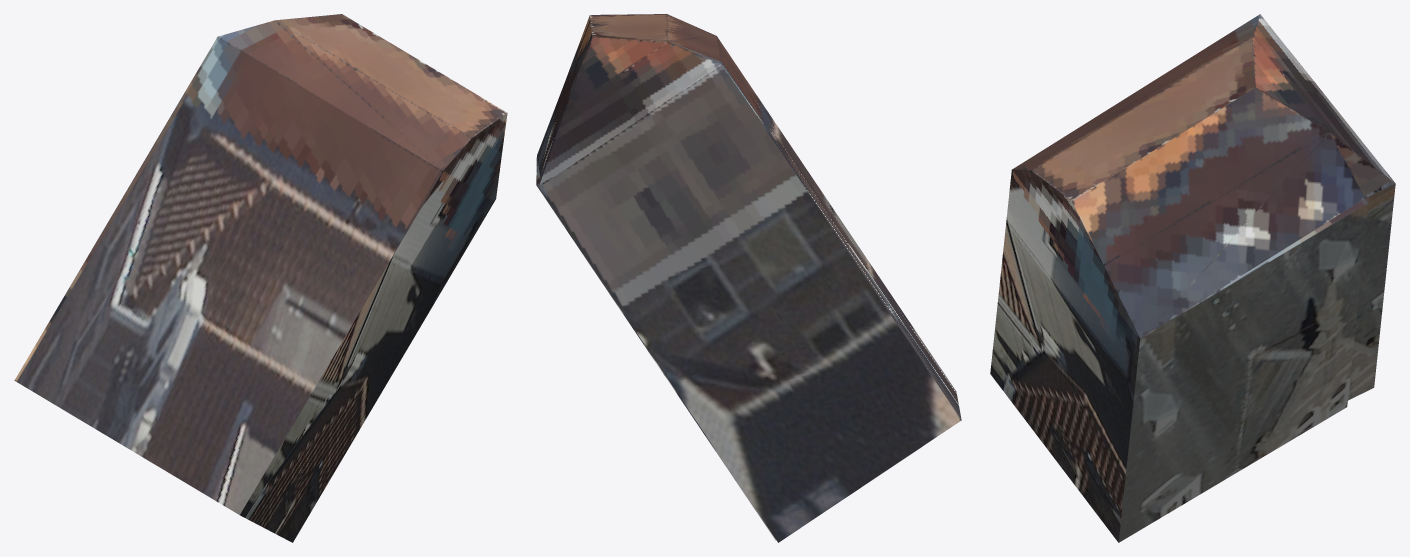
The picture shows the model from 3 angles, left to right: view 1: azimuth 30°, elevation 25°; view 2: azimuth 150°, elevation 25°; view 3: azimuth 270°, elevation 25°; orthographic projection. The views are drawn at different scales.
Parts seen in each view (by area): view 1: BAG_0599100000760361 (×3); view 2: BAG_0599100000760361 (×4); view 3: BAG_0599100000760361 (×4).
Part boxes in pixels (x1,y1,x2,y2): BAG_0599100000760361 (×3): (14, 14, 507, 542); BAG_0599100000760361 (×4): (536, 14, 961, 542); BAG_0599100000760361 (×4): (990, 14, 1395, 542).
Bounding box in the file's own units: 12.36 × 12.65 × 8.79.
1 material, 1 textured.
